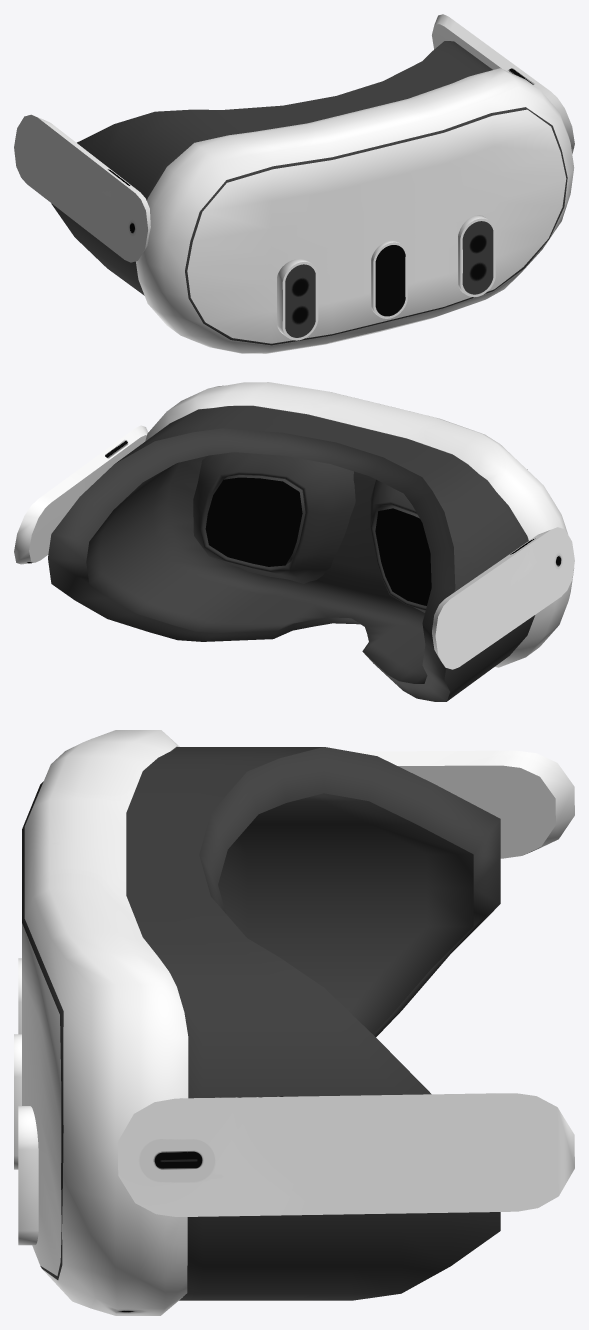
The model's file is HMD.fbx.
3 renders of one model, top to bottom at view 1: azimuth 30°, elevation 25°; view 2: azimuth 150°, elevation 25°; view 3: azimuth 270°, elevation 25°, orthographic. The views are drawn at different scales.
Visible parts, largest first — view 1: HMD; view 2: HMD; view 3: HMD.
Part boxes in pixels (x1=…): HMD: x1=14, y1=14, x2=574, y2=353; HMD: x1=14, y1=382, x2=574, y2=701; HMD: x1=14, y1=730, x2=574, y2=1315.
Size of the model in its own units: 18.35 by 8.47 by 11.98.
Materials: 2 (2 with a texture image).
